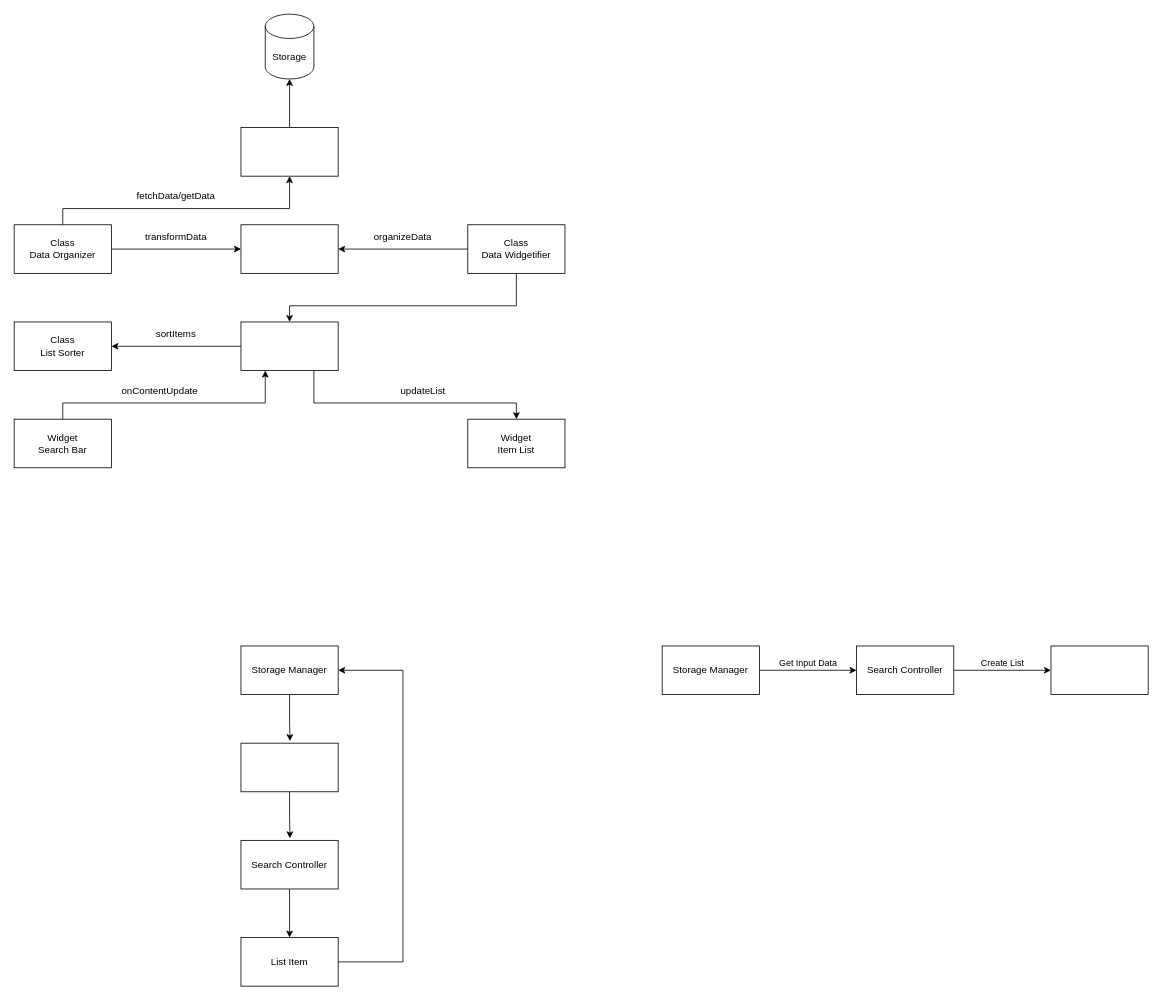
Some shapes in this 1162 by 1000 pixel diagram are drawn without their labels. The shapes that lost their labels are listed below. From the top down, each one's centre as x and y in pixels, then its label:
(289,151): Class Data Manager
(289,248): Class Data Transformer
(289,346): Widget Search Controller
(1099,670): List Items
(289,767): Choreographer
